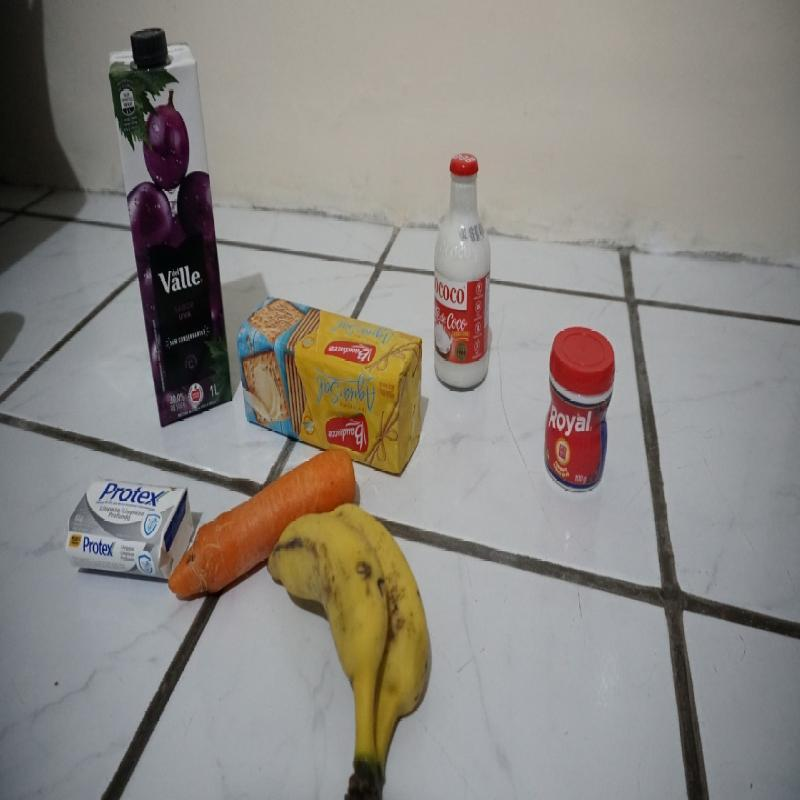Banana: (269, 503, 434, 798)
Carrot: (170, 448, 356, 596)
Coconut Milk: (435, 154, 490, 388)
Cracker: (240, 297, 424, 480)
Soap: (67, 482, 192, 583)
Yeast: (545, 326, 616, 494)
